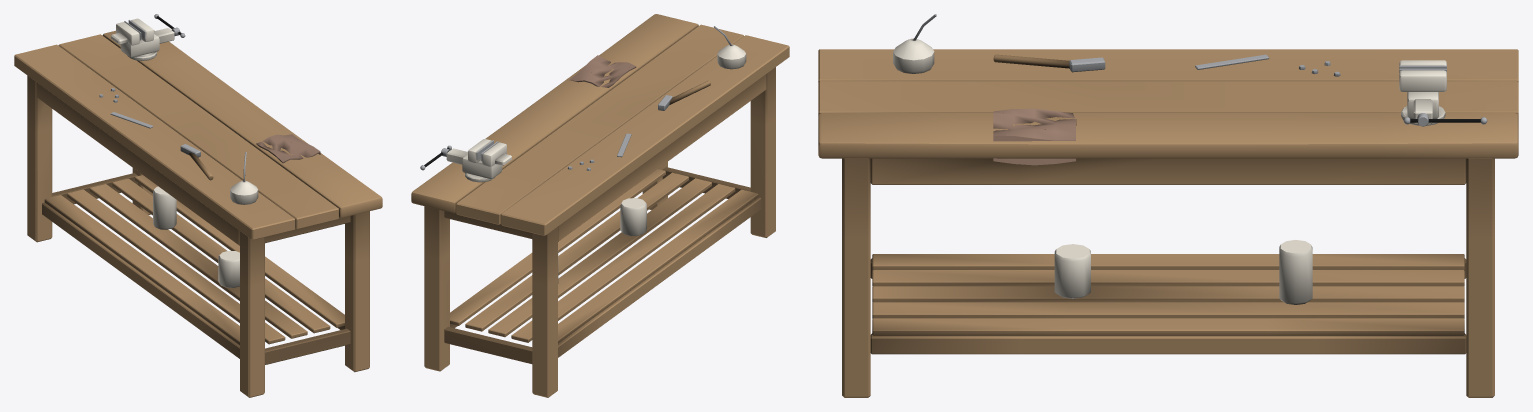
The model's file is workbench_old_s.glb.
3 views of the same model, side by side, from view 1: azimuth 30°, elevation 25°; view 2: azimuth 150°, elevation 25°; view 3: azimuth 270°, elevation 25° (orthographic). The views are drawn at different scales.
Parts seen in each view (by area): view 1: PART; view 2: PART; view 3: PART.
Boxes of the visible parts, x1=… form: PART: x1=14, y1=14, x2=382, y2=397; PART: x1=411, y1=14, x2=789, y2=397; PART: x1=818, y1=14, x2=1518, y2=397.
Bounding box in the file's own units: 0.7094 × 1.1 × 2.2.
